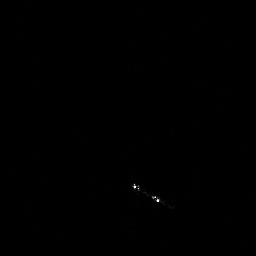ship: (129, 181, 164, 205)
